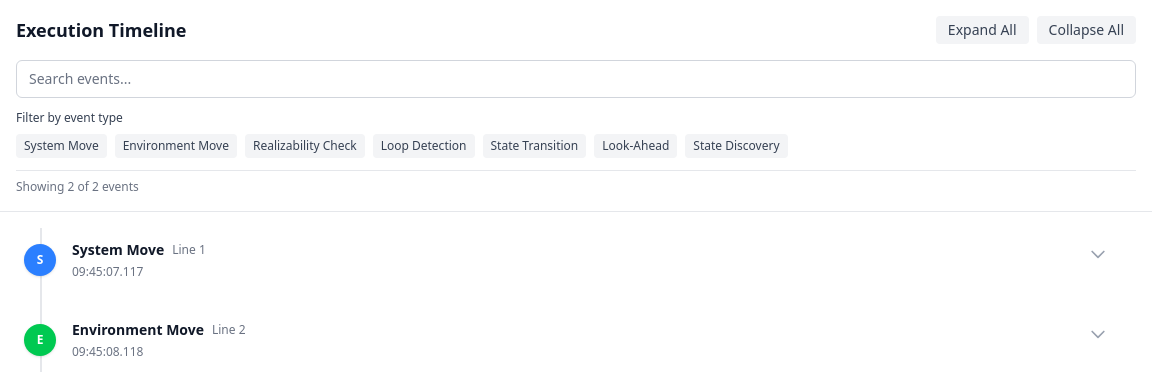
Scenario: Timeline Component › should display empty state when no events match filters
Type "nonexistent" into the field with placeholder "Search events...". click: (576, 79)
box: top-left (16, 60), bottom-right (1136, 98)
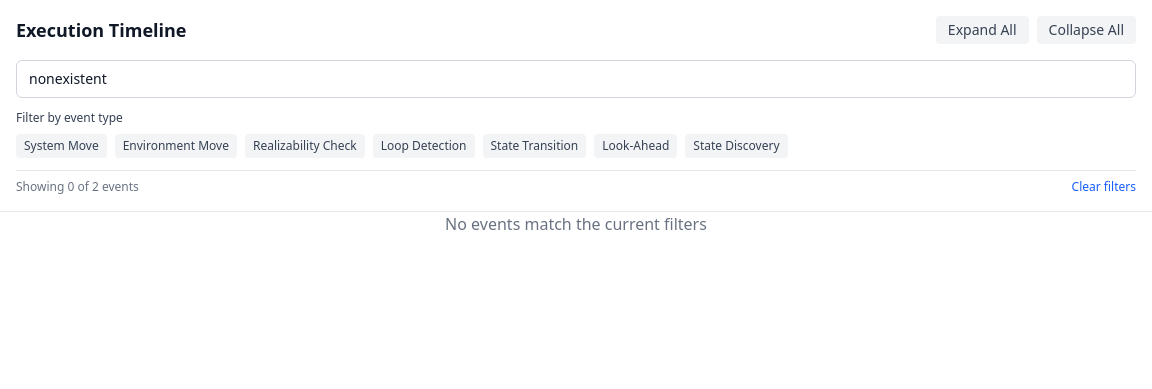
Result: the text "No events match the current filters" is shown at top-left (445, 212), bottom-right (707, 236)
